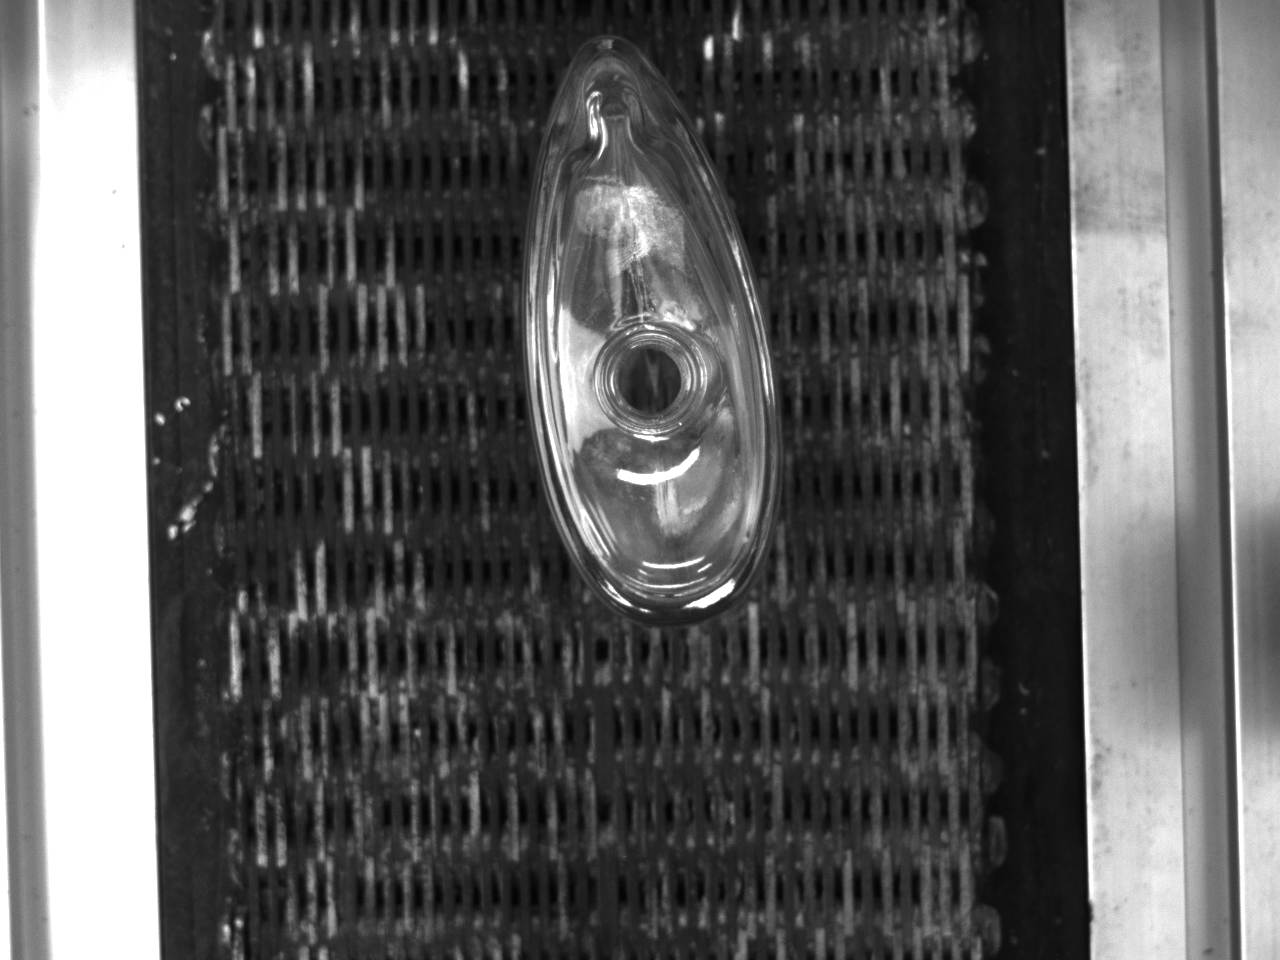bottleneck: (592, 324, 708, 436)
